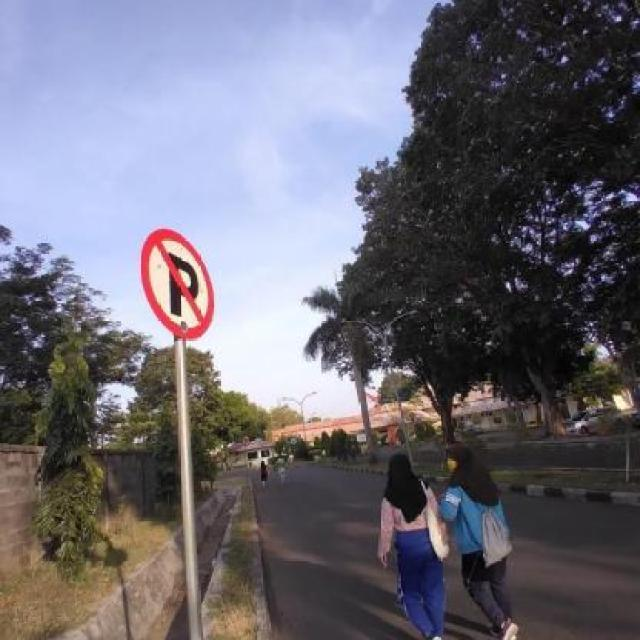no parking: (140, 222, 223, 344)
